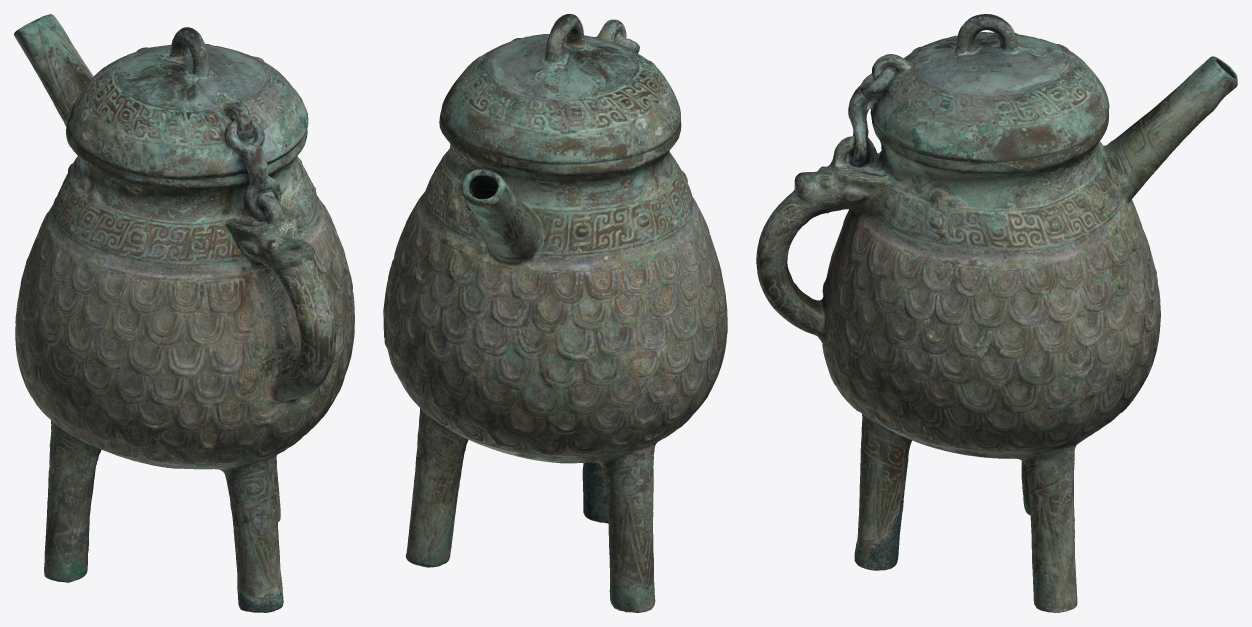
Rendered from obj_he_wine_vessel_10th_11th_c_b_974444.glb.
3 renders of one model, left to right at view 1: azimuth 30°, elevation 25°; view 2: azimuth 150°, elevation 25°; view 3: azimuth 270°, elevation 25°, orthographic.
Visible parts, largest first — view 1: obj_he_wine_vessel_10th_11th_c_b_974444; view 2: obj_he_wine_vessel_10th_11th_c_b_974444; view 3: obj_he_wine_vessel_10th_11th_c_b_974444.
Part boxes in pixels (x1,y1,x2,y2): obj_he_wine_vessel_10th_11th_c_b_974444: [14, 14, 354, 612]; obj_he_wine_vessel_10th_11th_c_b_974444: [383, 14, 727, 612]; obj_he_wine_vessel_10th_11th_c_b_974444: [756, 14, 1237, 612].
Size of the model in its own units: 0.1271 by 0.22 by 0.1764.
1 material, 1 textured.
